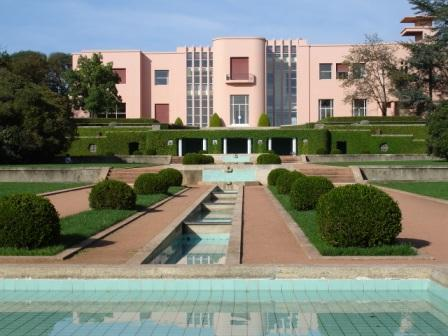serralves: (72, 14, 447, 126)
